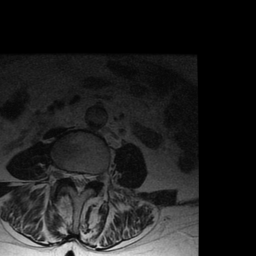CCS_normal: (75, 166, 83, 198)
LFS_stenosis: (89, 166, 97, 189)
LLS_normal: (83, 166, 89, 193)
RFS_normal: (60, 163, 68, 184)
RLS_normal: (68, 165, 75, 188)
